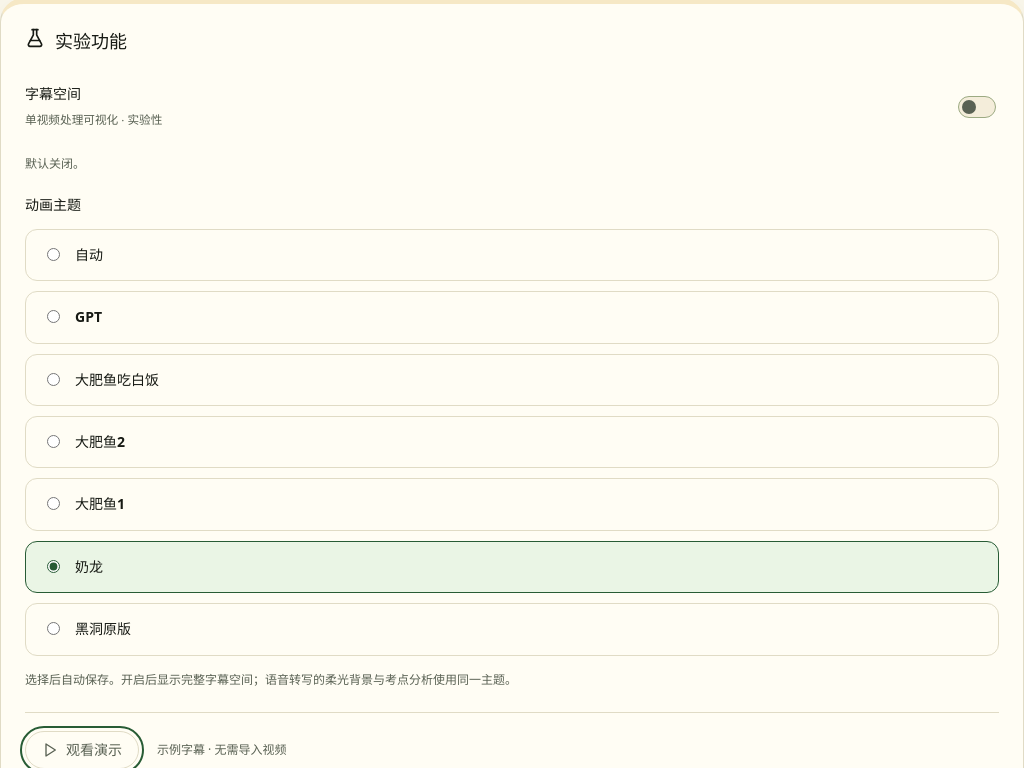
Test: keeps close and retry available when the renderer fails
Click the button "观看演示" at x=82, y=750, box [25,731,139,767]
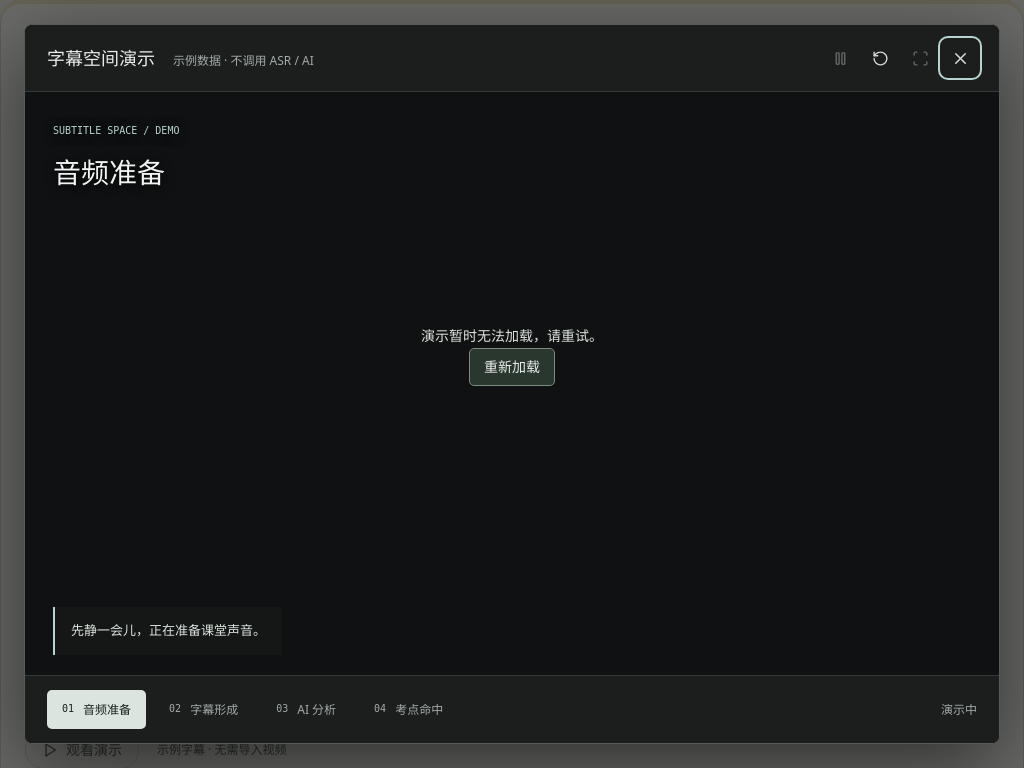
Now the message "演示暂时无法加载，请重试。 重新加载" is shown, box [421,326,603,386]
